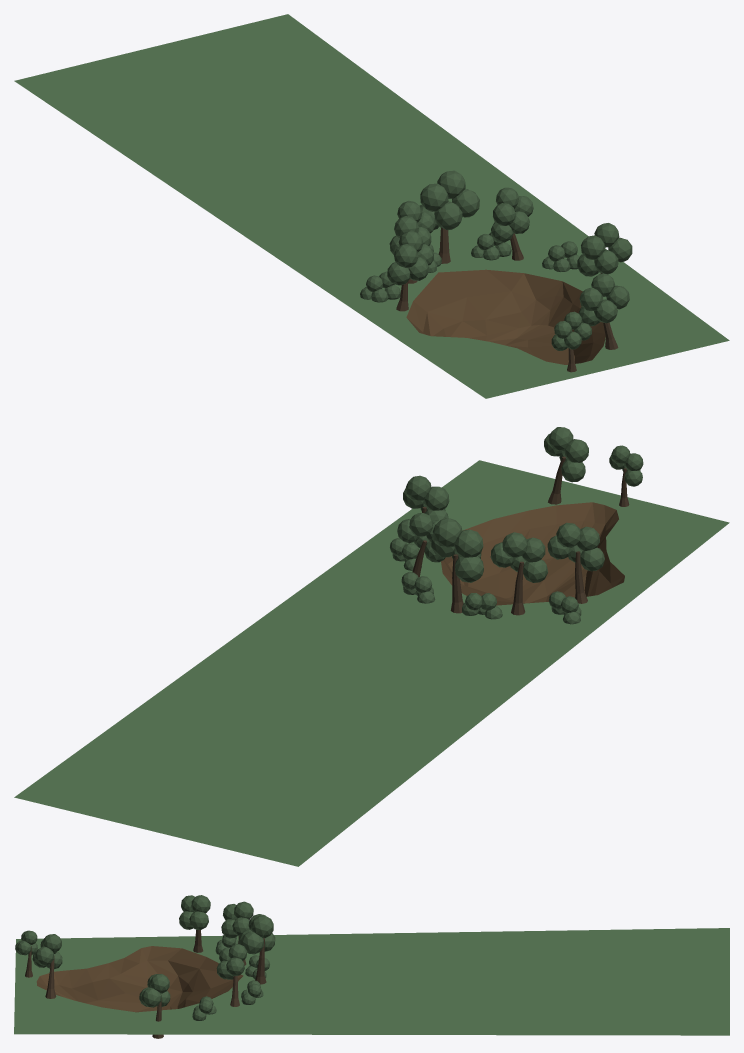
The model's file is pond.glb.
3 renders of one model, top to bottom at view 1: azimuth 30°, elevation 25°; view 2: azimuth 150°, elevation 25°; view 3: azimuth 270°, elevation 25°, orthographic. The views are drawn at different scales.
Visible parts, largest first — view 1: Ground, Tree.003, Tree.006, Tree, Tree.001, Tree.004, Tree.002, Tree.005, Tree.009, Tree.010, Tree.007; view 2: Ground, Tree.003, Tree.002, Tree.001, Tree.006, Tree, Tree.004, Tree.005, Tree.008, Tree.010, Tree.007; view 3: Ground, Tree.003, Tree.001, Tree.004, Tree.006, Tree, Tree.002, Tree.005, Tree.009, Tree.007, Tree.008.
Boxes of the visible parts, bbox=[...] form: Ground: bbox=[14, 14, 729, 398]; Tree.003: bbox=[419, 170, 479, 263]; Tree.006: bbox=[578, 273, 629, 349]; Tree: bbox=[577, 223, 632, 276]; Tree.001: bbox=[387, 230, 433, 311]; Tree.004: bbox=[491, 187, 533, 260]; Tree.002: bbox=[389, 201, 435, 283]; Tree.005: bbox=[551, 311, 591, 372]; Tree.009: bbox=[542, 241, 579, 271]; Tree.010: bbox=[360, 271, 400, 302]; Tree.007: bbox=[471, 232, 511, 260]; Ground: bbox=[14, 460, 729, 866]; Tree.003: bbox=[431, 518, 483, 613]; Tree.002: bbox=[490, 532, 547, 615]; Tree.001: bbox=[547, 522, 604, 603]; Tree.006: bbox=[544, 427, 588, 504]; Tree: bbox=[403, 475, 449, 520]; Tree.004: bbox=[397, 513, 445, 577]; Tree.005: bbox=[609, 445, 643, 506]; Tree.008: bbox=[462, 593, 502, 619]; Tree.010: bbox=[549, 591, 581, 624]; Tree.007: bbox=[401, 571, 435, 603]; Ground: bbox=[14, 928, 729, 1035]; Tree.003: bbox=[238, 914, 275, 984]; Tree.001: bbox=[179, 895, 210, 952]; Tree.004: bbox=[216, 944, 247, 1006]; Tree.006: bbox=[32, 934, 62, 998]; Tree: bbox=[139, 974, 170, 1038]; Tree.002: bbox=[221, 901, 253, 965]; Tree.005: bbox=[15, 930, 37, 977]; Tree.009: bbox=[192, 996, 216, 1020]; Tree.007: bbox=[241, 980, 263, 1004]; Tree.008: bbox=[245, 955, 269, 979].
Bounding box in the file's own units: 160 × 70.81 × 450.
